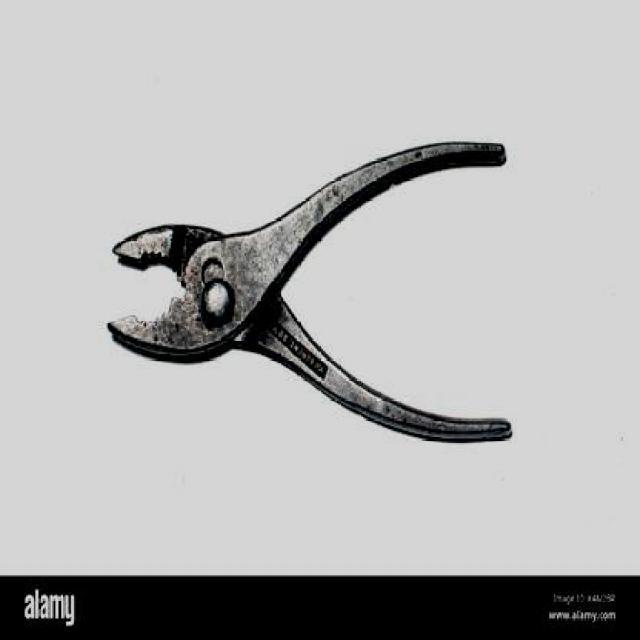pliers: (99, 137, 522, 445)
